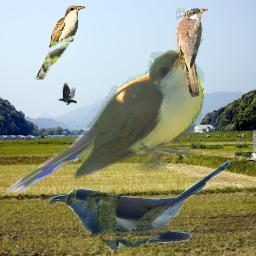Crow: (58, 82, 77, 105)
Cuckoo: (3, 50, 204, 193), (49, 159, 237, 253), (35, 4, 86, 81), (176, 8, 208, 97)
